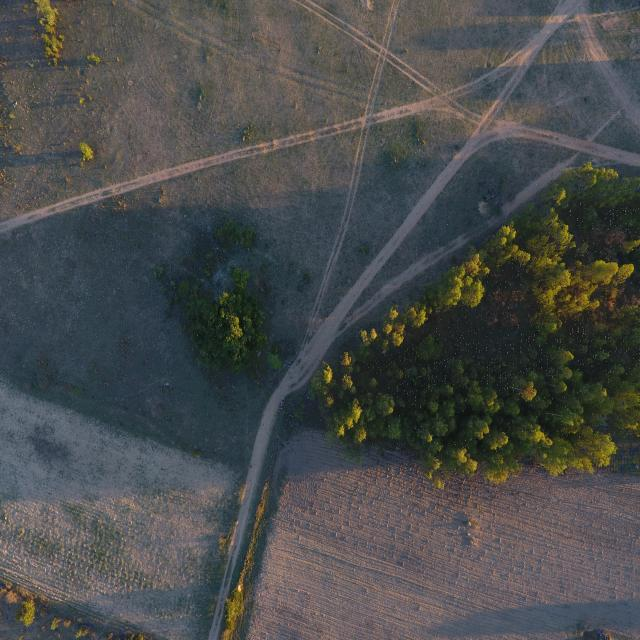boundaries: (210, 445, 294, 631)
